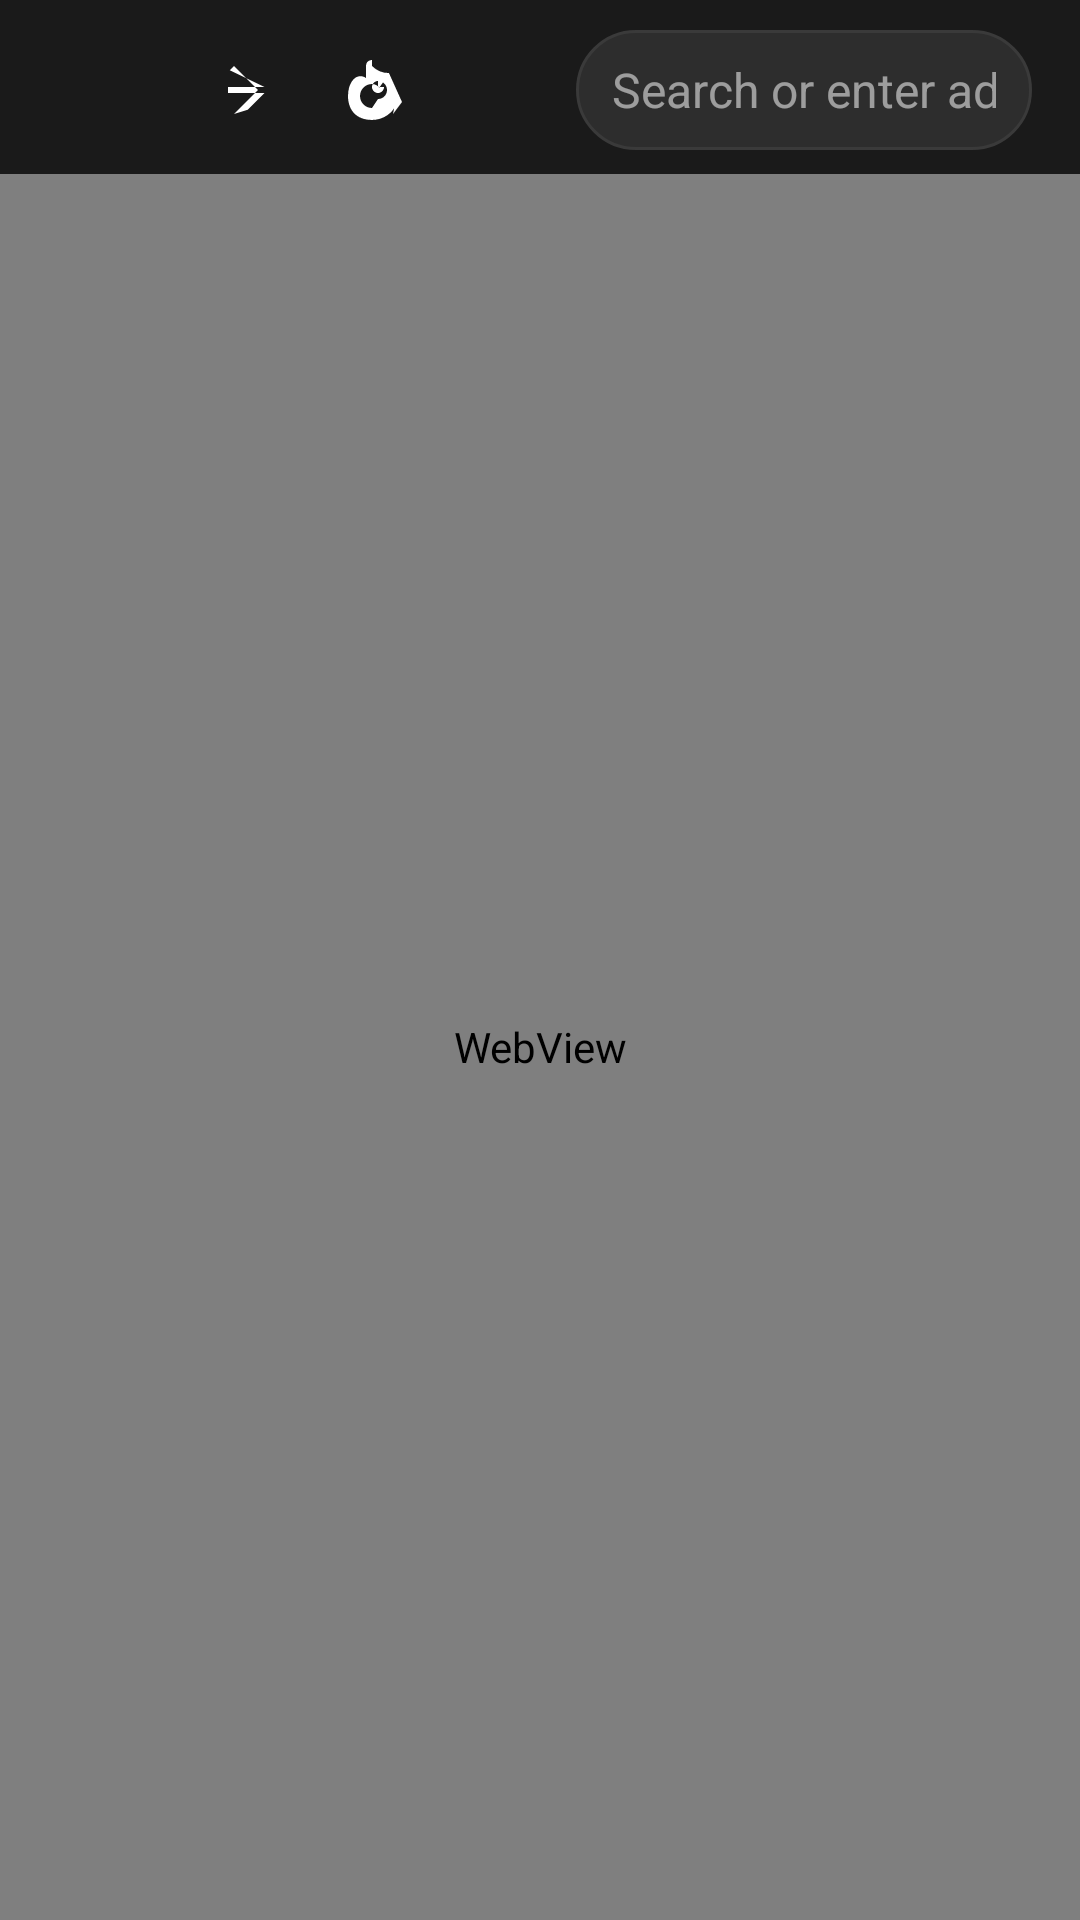

Locate icon controls on the screen. Image size 1080 × 1920, boxes as (x1, y1, x2, y2).
Forward: (228, 66, 265, 114)
